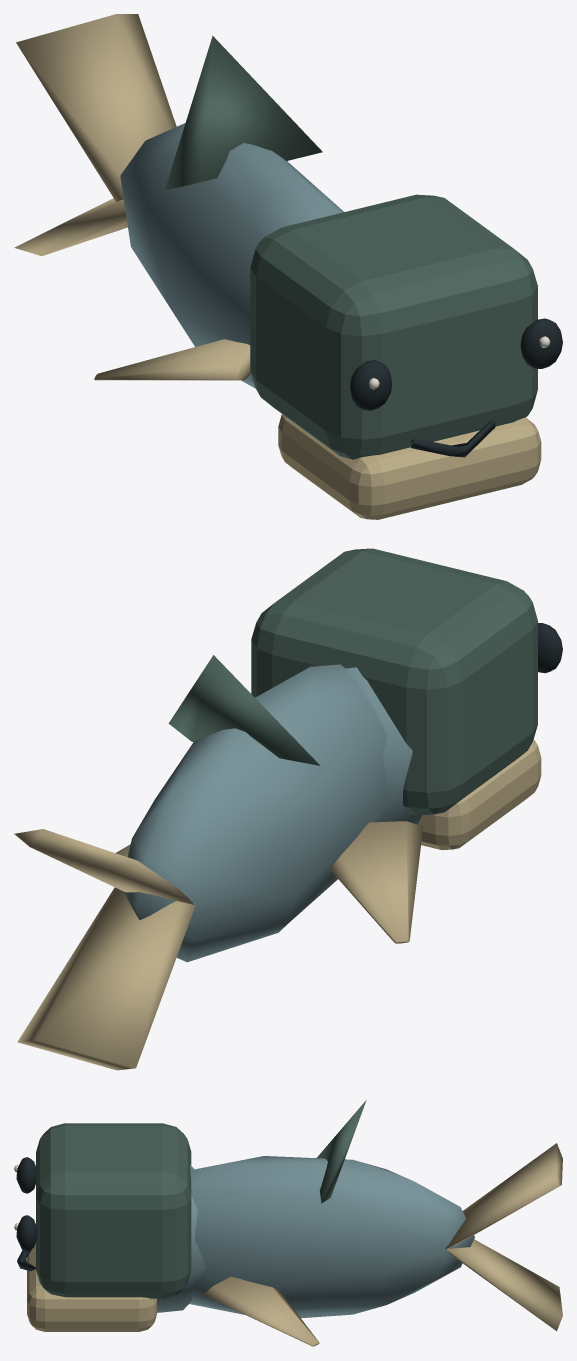
Rendered from org_dunkleosteus.glb.
3 views of the same model, one above another, from view 1: azimuth 30°, elevation 25°; view 2: azimuth 150°, elevation 25°; view 3: azimuth 270°, elevation 25° (orthographic). The views are drawn at different scales.
Parts seen in each view (by area): view 1: Head, Body, Tail, Fin_R, Eye_L, Eye_R; view 2: Head, Body, Tail, Fin_R, Eye_R; view 3: Body, Head, Tail, Fin_L, Eye_L, Eye_R.
Part boxes in pixels (<box>): Head: <box>250,194,541,519</box>; Body: <box>120,36,343,388</box>; Tail: <box>14,14,176,256</box>; Fin_R: <box>94,339,250,380</box>; Eye_L: <box>520,318,562,368</box>; Eye_R: <box>350,360,392,410</box>; Head: <box>251,548,541,849</box>; Body: <box>123,655,389,962</box>; Tail: <box>14,829,195,1070</box>; Fin_R: <box>330,821,423,943</box>; Eye_R: <box>538,623,562,673</box>; Body: <box>189,1100,474,1318</box>; Head: <box>17,1123,206,1331</box>; Tail: <box>445,1143,562,1331</box>; Fin_L: <box>203,1276,319,1346</box>; Eye_L: <box>14,1215,37,1251</box>; Eye_R: <box>14,1157,35,1193</box>.
Size of the model in its own units: 0.9015 by 0.8484 by 1.95.
